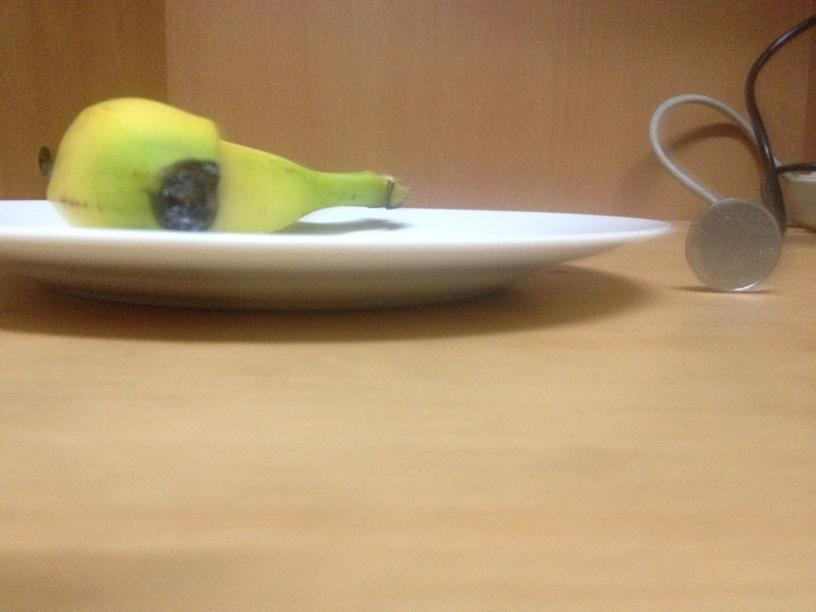banana: (49, 99, 392, 237)
coin: (685, 197, 781, 292)
